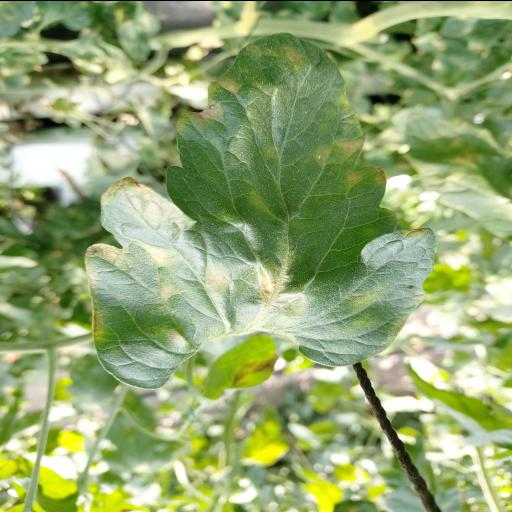disease_tomato: (84, 30, 436, 388)
